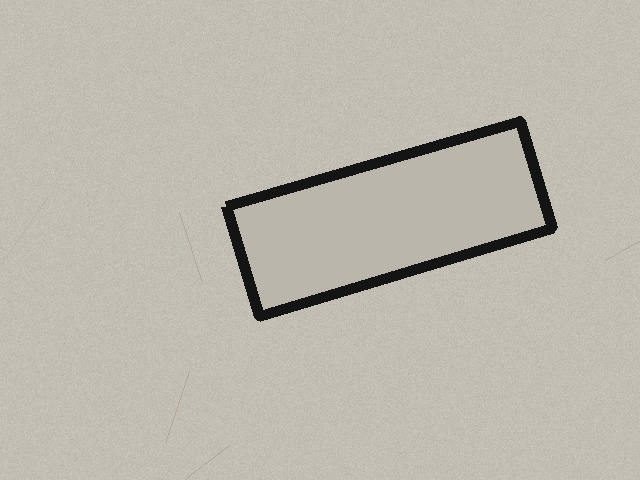parking_area: (226, 121, 552, 316)
